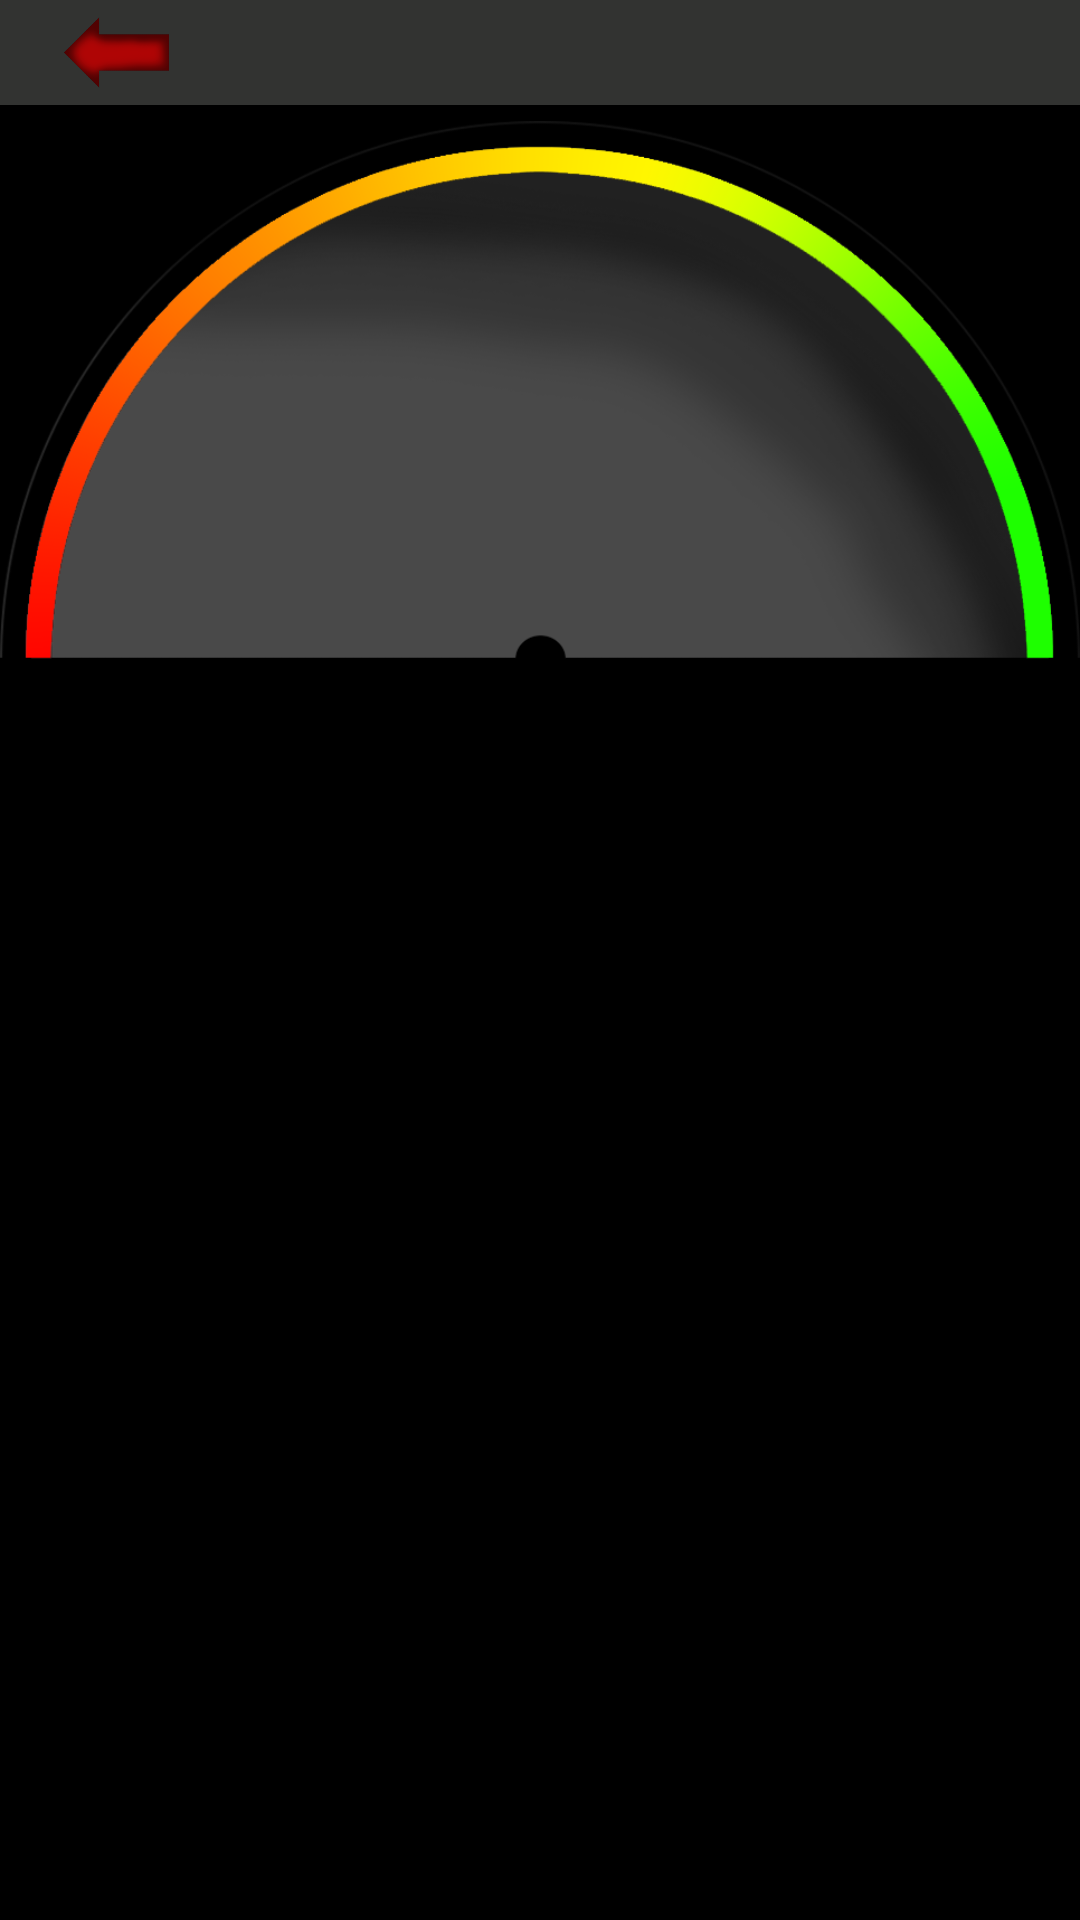

Locate icon controls on the screen. Image size 1080 x 1920, boxes as (x1, y1, x2, y2).
back arrow: (64, 18, 169, 87)
